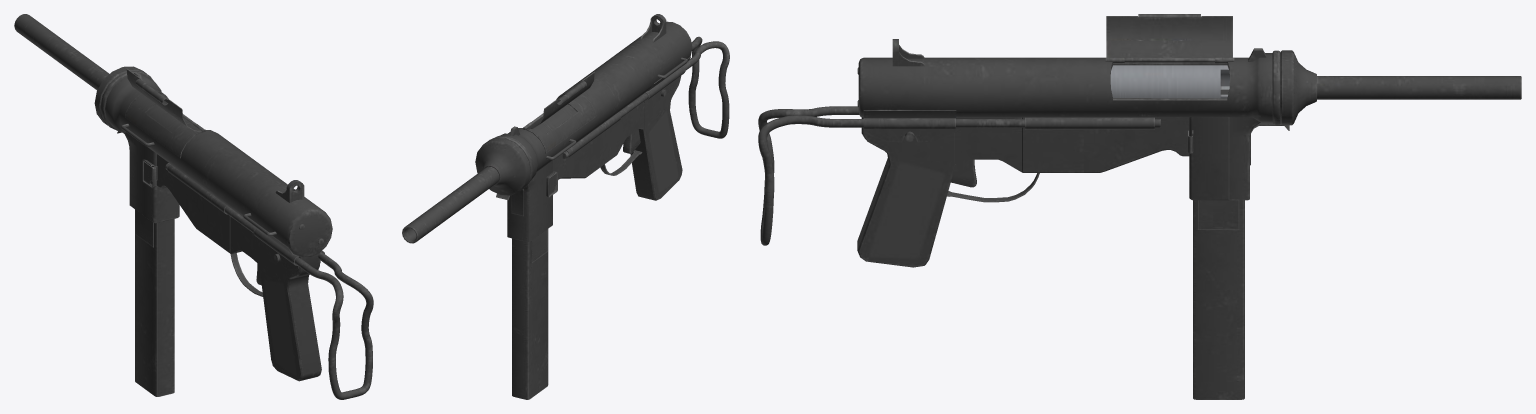
The model's file is bunker47-gun-greasegun.glb.
The picture shows the model from 3 angles, left to right: view 1: azimuth 30°, elevation 25°; view 2: azimuth 150°, elevation 25°; view 3: azimuth 270°, elevation 25°; orthographic projection. The views are drawn at different scales.
Parts seen in each view (by area): view 1: Body, Magazine, Stock, EjectorLid; view 2: Body, Magazine, Stock, EjectorLid; view 3: Body, Magazine, EjectorLid, Bolt, Stock.
Part boxes in pixels (x1,y1,x2,y2): Body: (14, 14, 332, 381); Magazine: (135, 209, 174, 396); Stock: (165, 163, 373, 399); EjectorLid: (126, 69, 205, 132); Body: (402, 14, 692, 243); Magazine: (512, 229, 548, 399); Stock: (562, 36, 729, 158); EjectorLid: (522, 72, 594, 129); Body: (857, 39, 1521, 267); Magazine: (1193, 89, 1244, 399); EjectorLid: (1105, 14, 1234, 62); Bolt: (1110, 65, 1229, 98); Stock: (758, 106, 1160, 245).
Bounding box in the file's own units: 6.35 × 33.4 × 62.71.
Materials: 1 (1 with a texture image).
